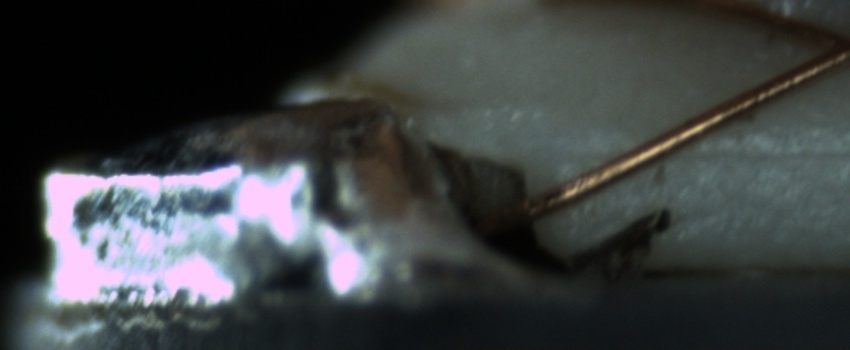CL: (797, 10, 850, 78)
DL: (615, 119, 849, 186)
